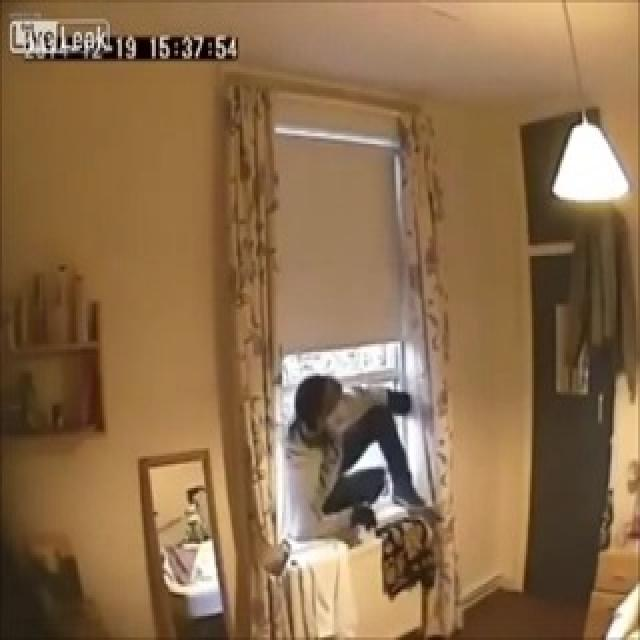thief: (290, 372, 416, 541)
